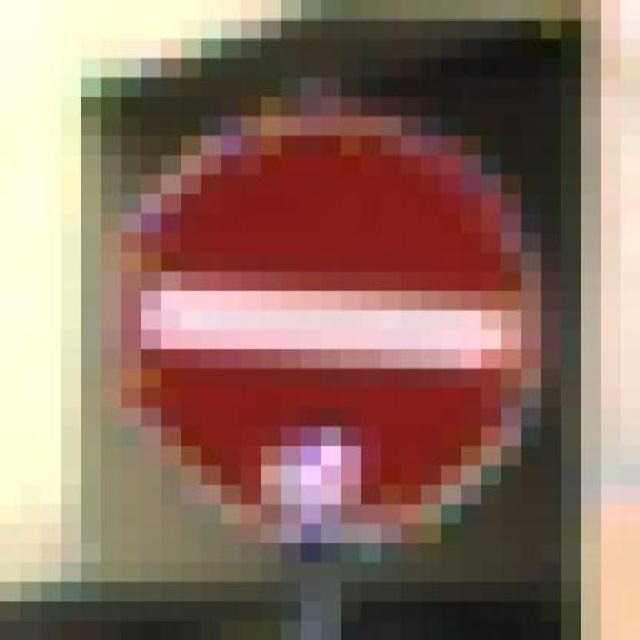No Entry: (80, 77, 580, 543)
